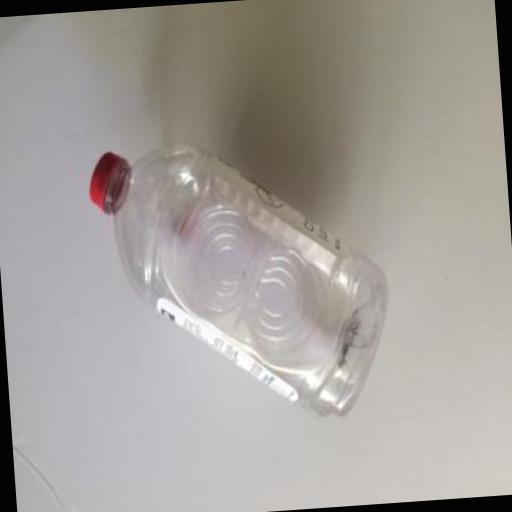plastic: (85, 131, 394, 431), (84, 150, 130, 216)
